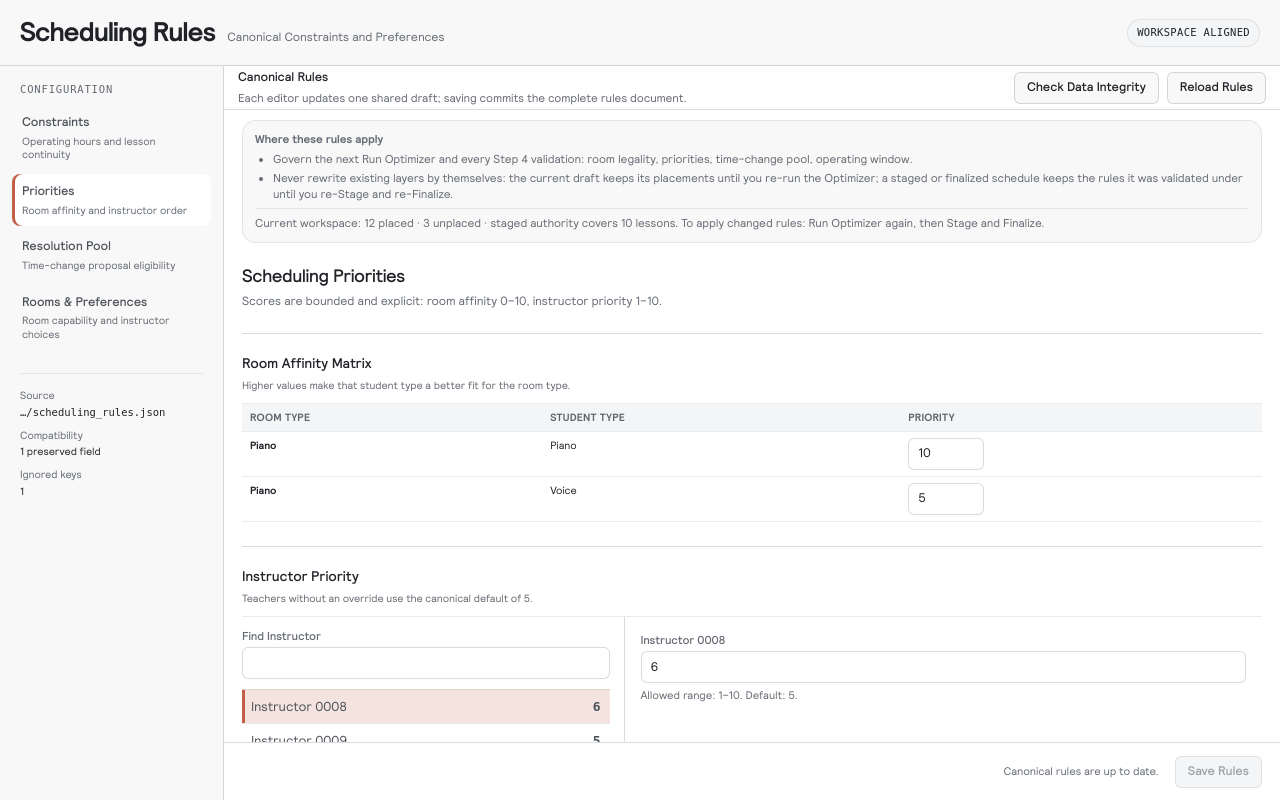
Test: RulesPage › runs the persisted data integrity check in a bounded diagnostic dialog
Check: the heading "Scheduling Rules" is shown, box x1=20 y1=18 x2=215 y2=47
Click the button "Check Data Integrity" at (1086, 88), box x1=1014 y1=72 x2=1159 y2=104
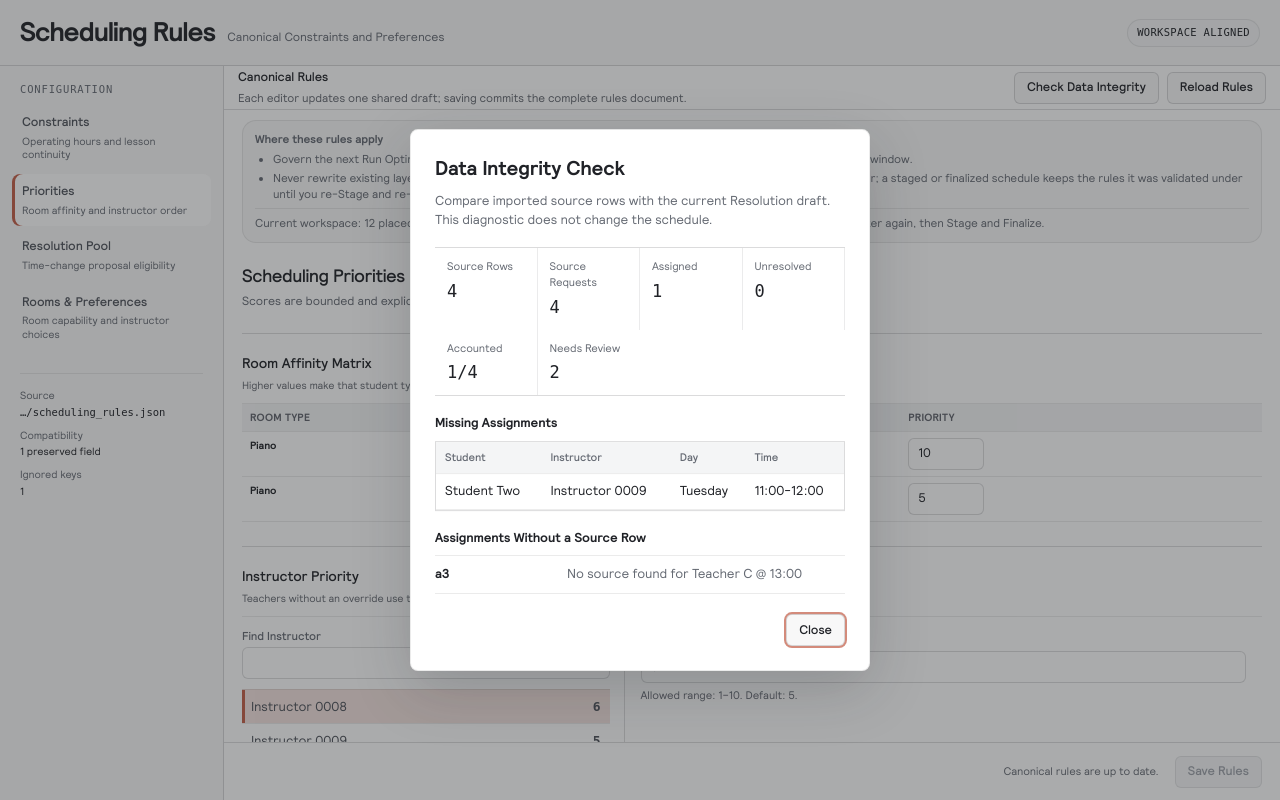
Check: the text "Student Two" is shown, box x1=436 y1=474 x2=541 y2=510
Check: the text "a3" is shown, box x1=435 y1=566 x2=450 y2=581
Check: the text "2" is shown, box x1=550 y1=362 x2=560 y2=382
